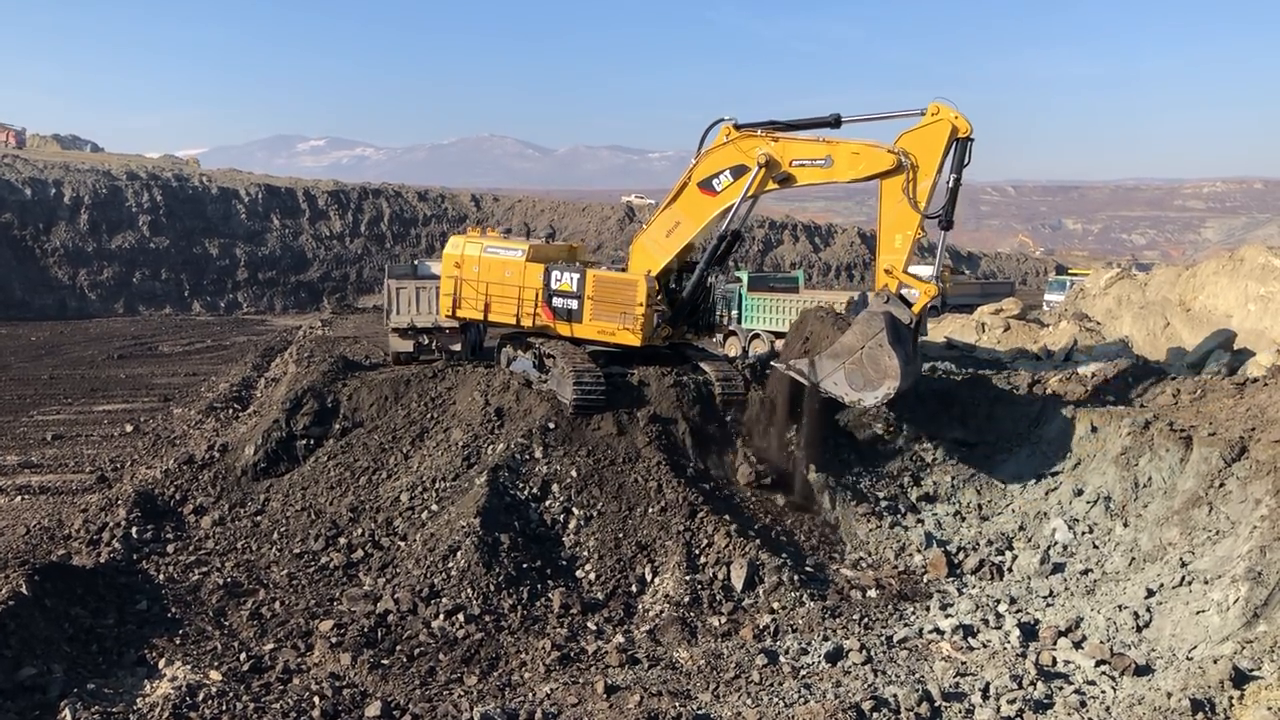full: (772, 290, 923, 408)
